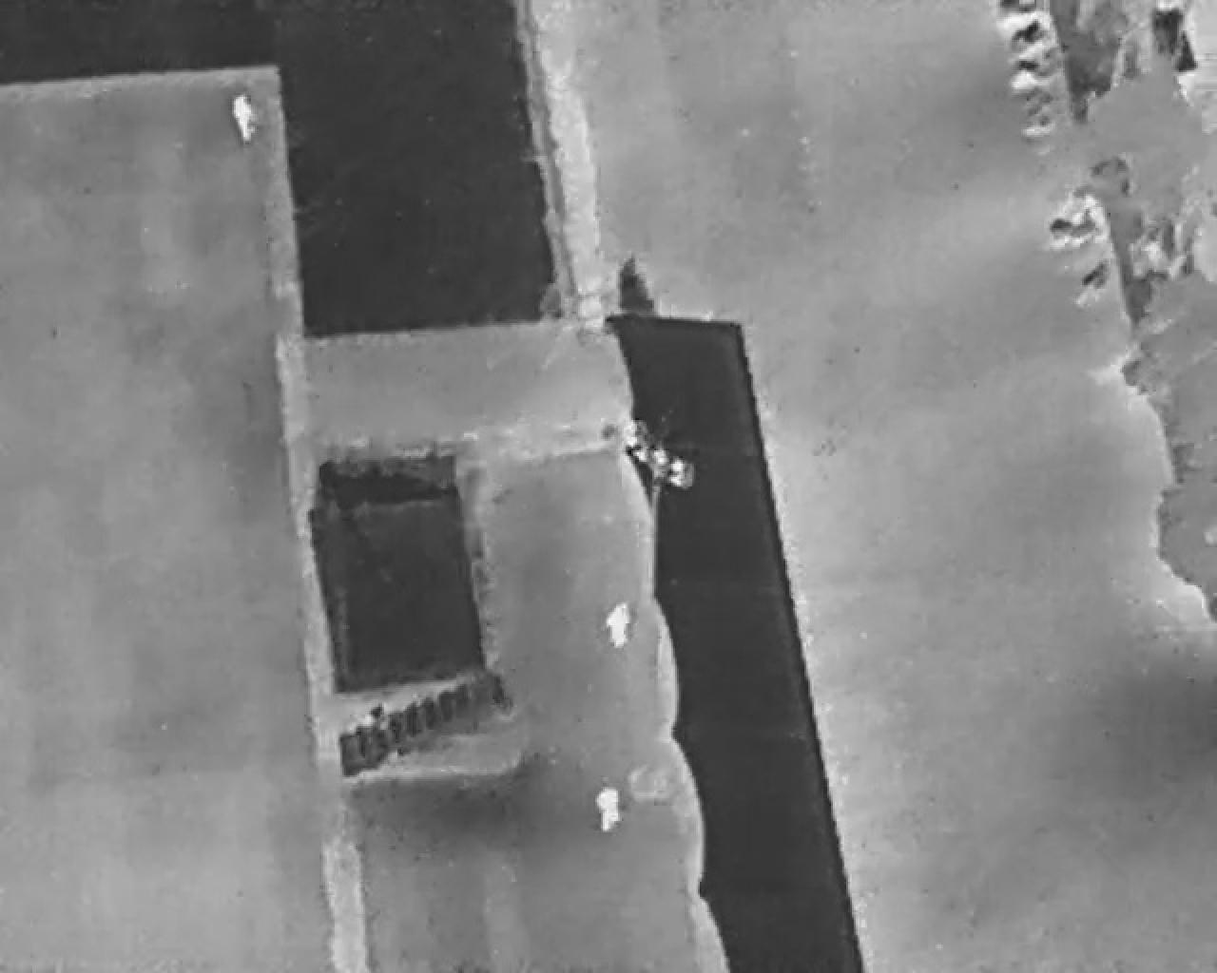person: (600, 600, 634, 655), (229, 94, 260, 147), (598, 786, 623, 835)
